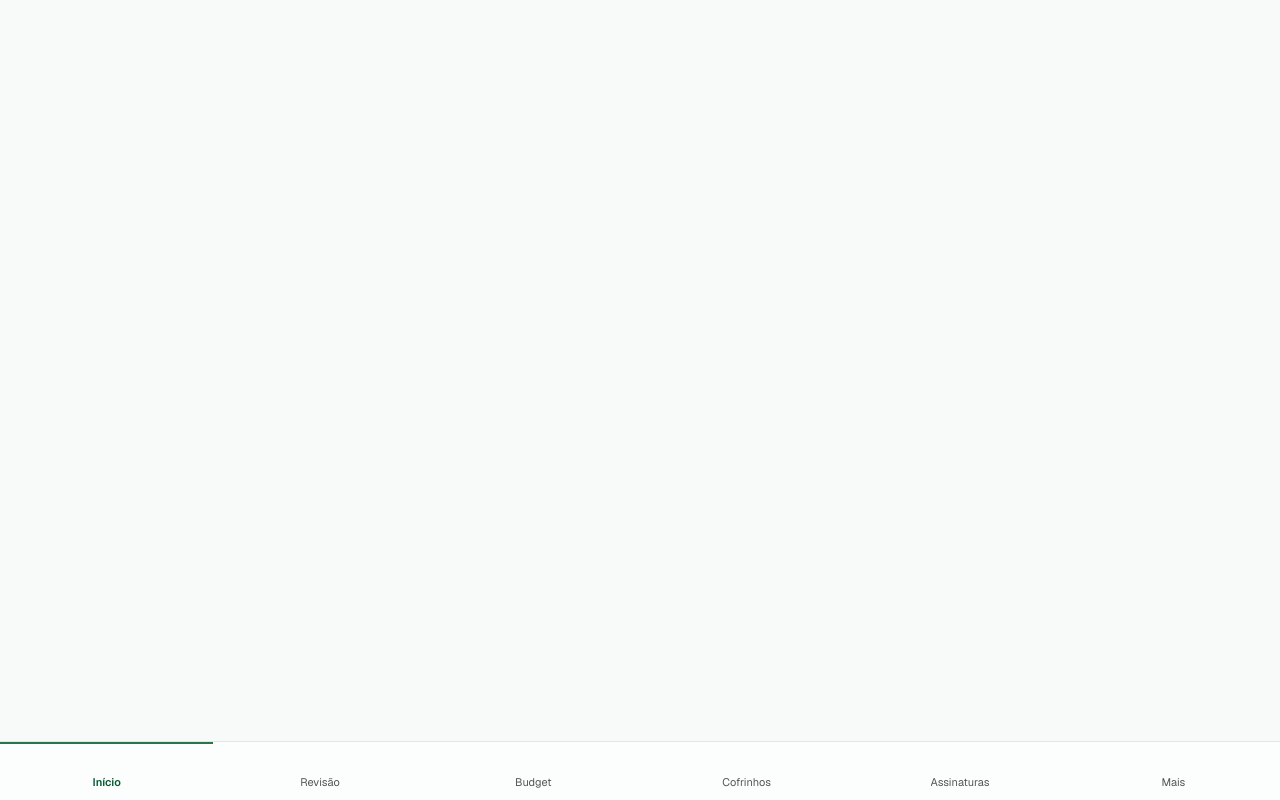
Test: PhoneNav › keeps five destinations on the bar and the rest behind Mais
What coordinates should you click on to do the following:
click the button with class "tab" showing "Mais"
I would click on:
 (1173, 771)
Its box is [1067,742,1279,799].
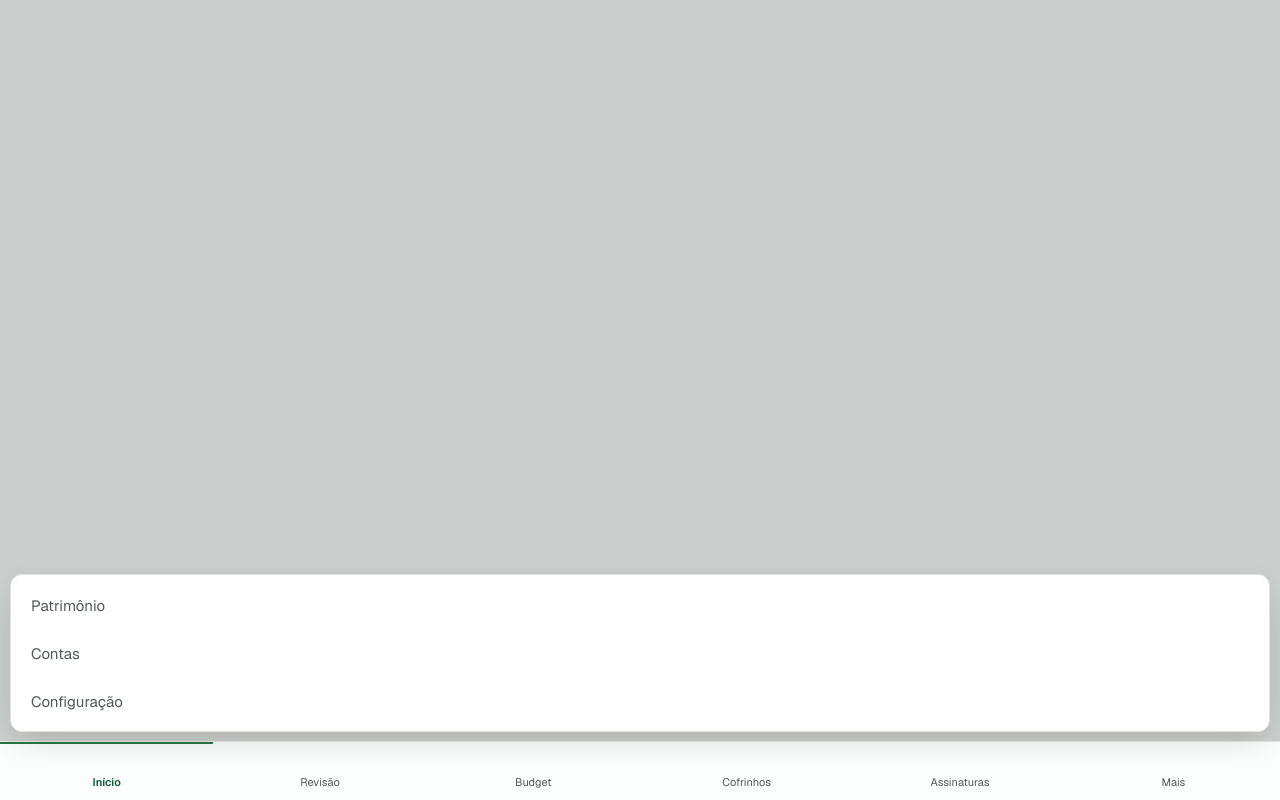
Check: the elements with class "sheet-item" read "Patrimônio", "Contas", "Configuração", in this order, box [31,596,105,614]; [31,644,80,662]; [31,692,123,710]
